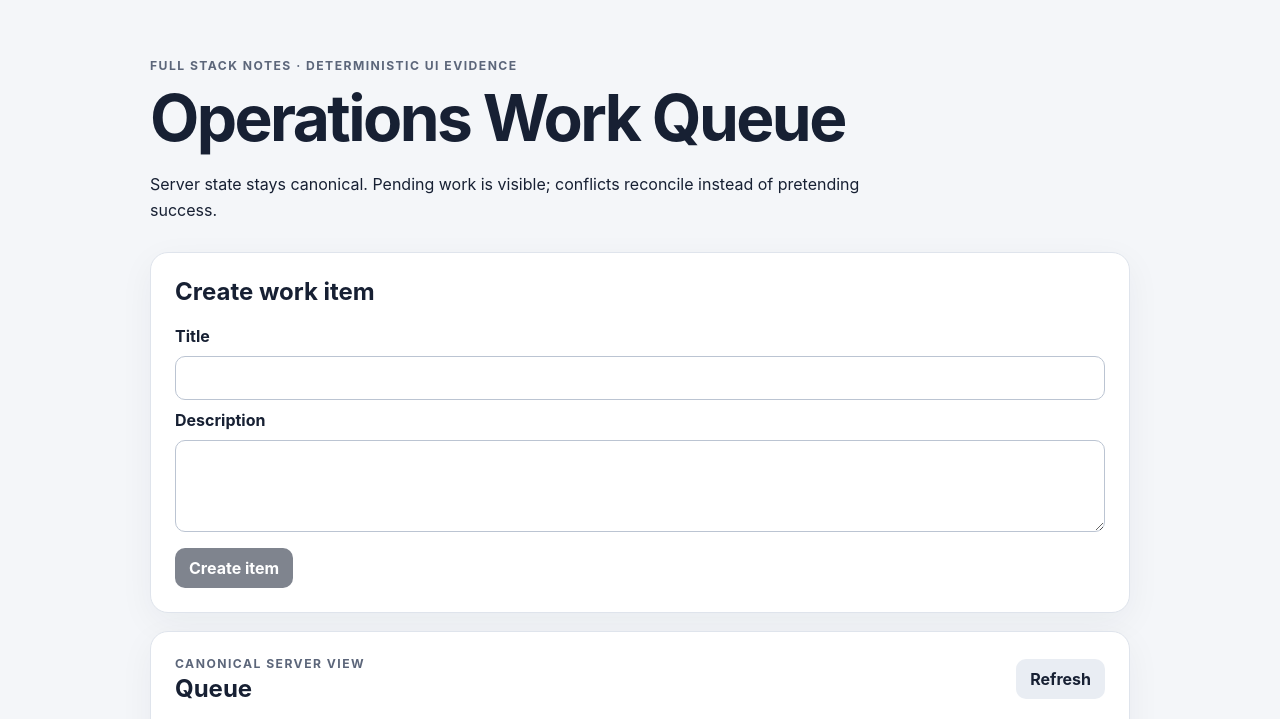
Scenario: create flow is keyboard-operable and form/action controls have accessible names
Expected: the button "Create item" is shown, x1=175 y1=548 x2=293 y2=588
Expected: the button "Refresh" is shown, x1=1016 y1=659 x2=1105 y2=699
In the field labelled "Title": (640, 378) x1=175 y1=356 x2=1105 y2=400, type "Keyboard-created item"
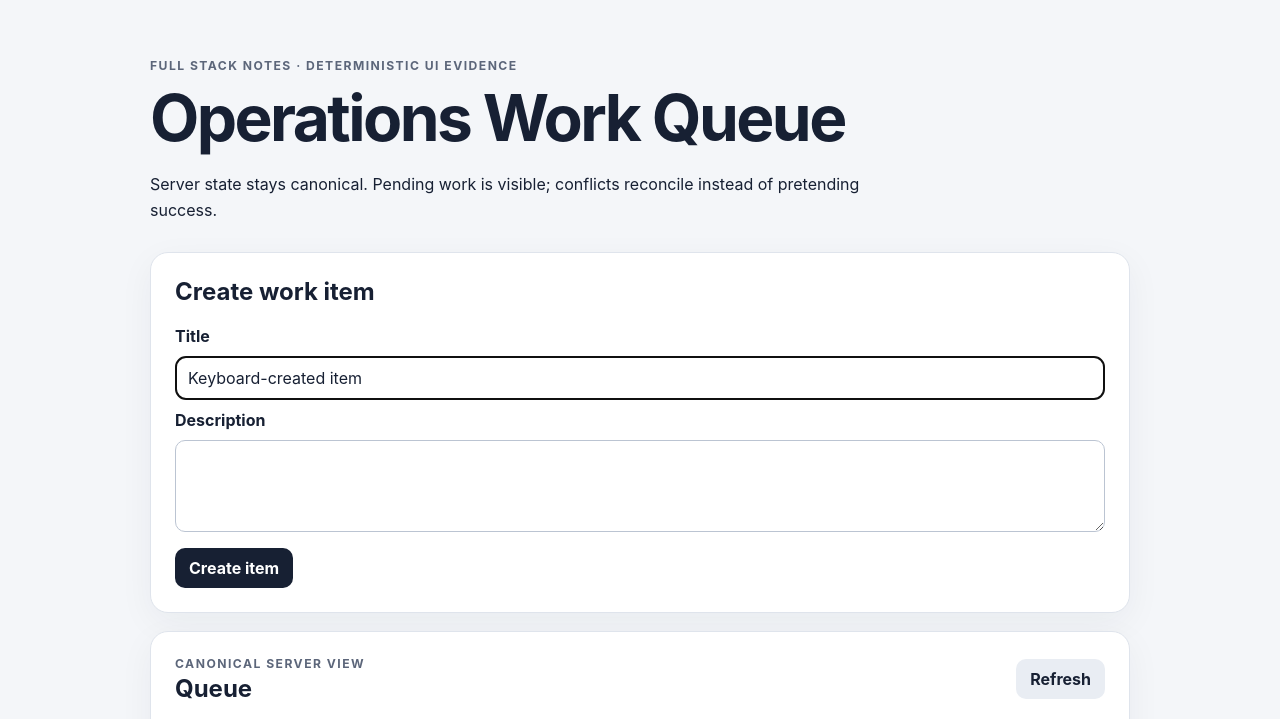
Press Enter
(page scrolled)
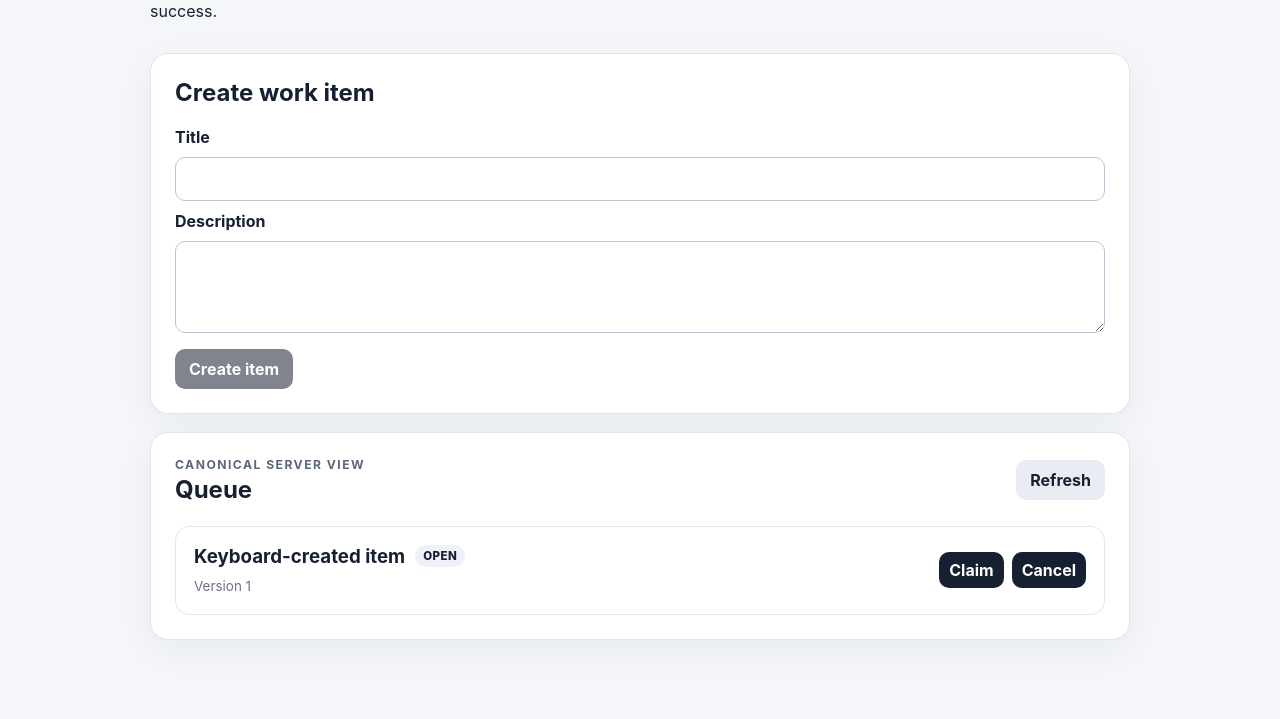
Expected: the heading "Keyboard-created item" is shown, x1=194 y1=544 x2=405 y2=568
Expected: the element named "Actions for Keyboard-created item" is shown, x1=939 y1=552 x2=1086 y2=588
